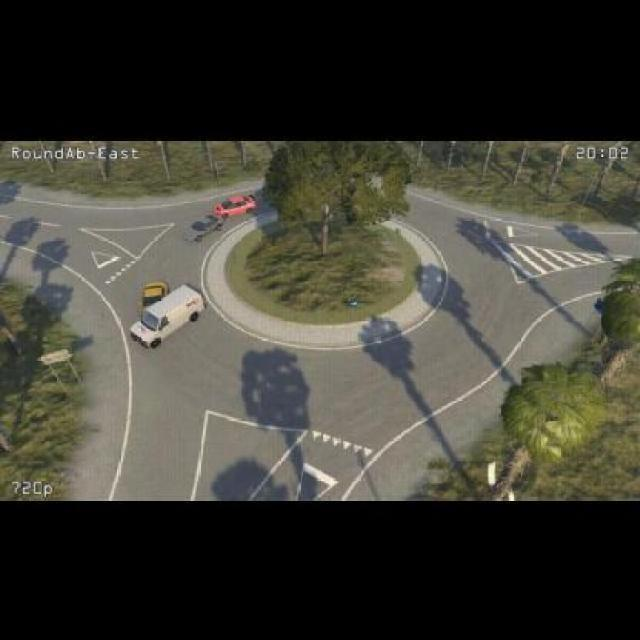accident: (129, 277, 168, 336)
